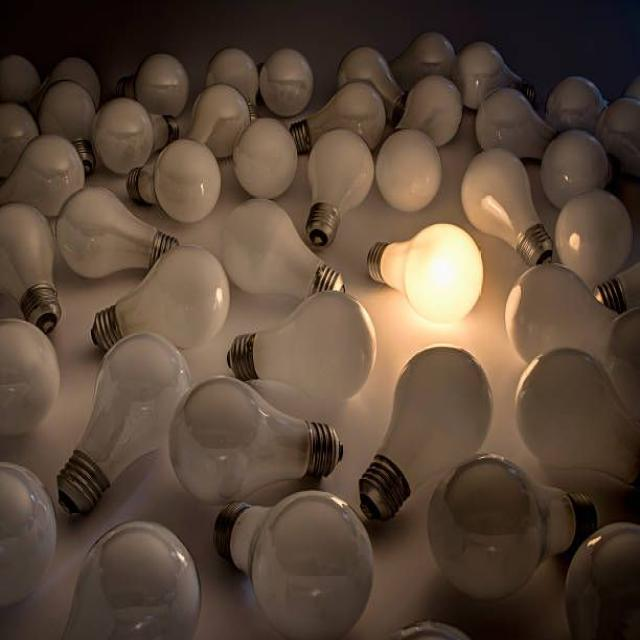electronic: (0, 31, 638, 639), (56, 330, 192, 520), (212, 488, 374, 639), (358, 342, 492, 522), (426, 452, 575, 600), (60, 518, 200, 639), (366, 221, 483, 325), (459, 145, 553, 266)
